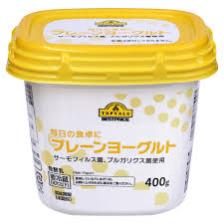plastic: (5, 10, 213, 217)
